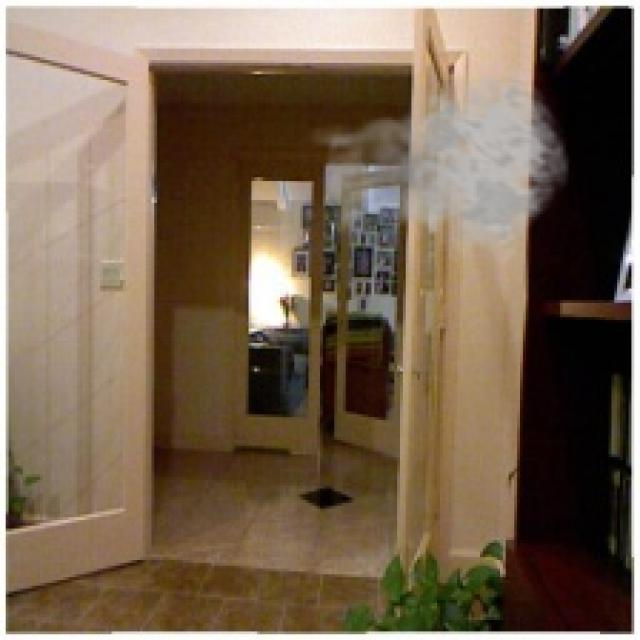smoke: (306, 65, 571, 268)
